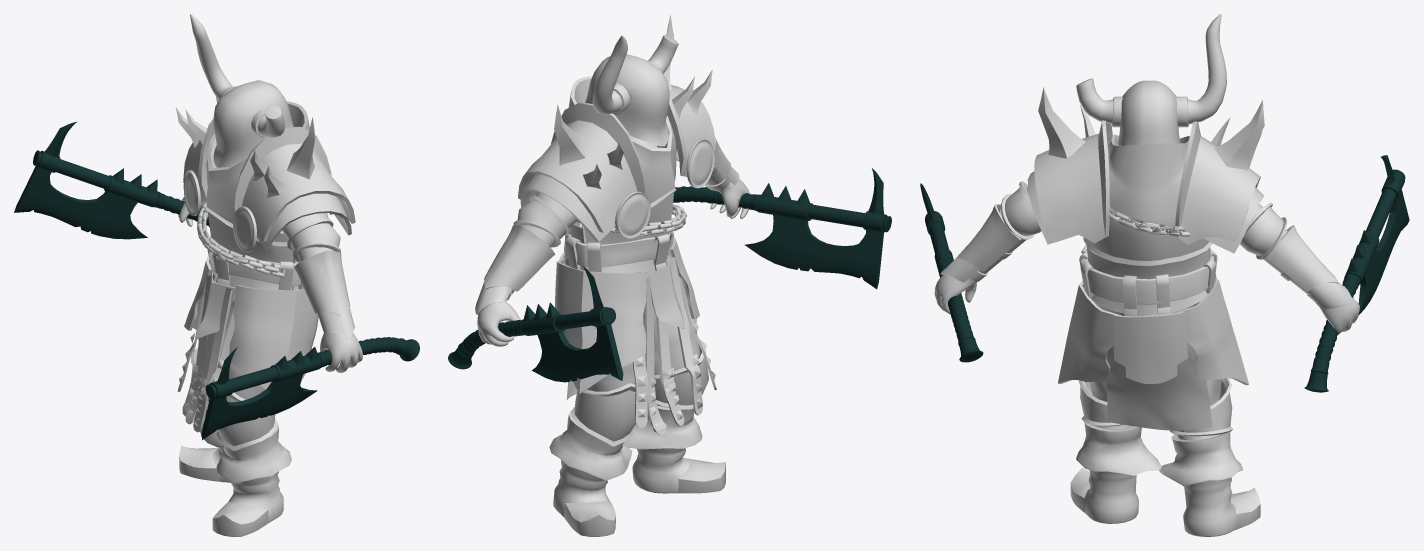
3 renders of one model, left to right at view 1: azimuth 30°, elevation 25°; view 2: azimuth 150°, elevation 25°; view 3: azimuth 270°, elevation 25°, orthographic. The views are drawn at different scales.
Parts seen in each view (by area): view 1: Knight_LP, ChaosAxeLP, ChaosAxeLP001; view 2: Knight_LP, ChaosAxeLP001, ChaosAxeLP; view 3: Knight_LP, ChaosAxeLP, ChaosAxeLP001.
Part boxes in pixels (x1,y1,x2,y2): Knight_LP: [175, 14, 362, 536]; ChaosAxeLP: [14, 122, 209, 239]; ChaosAxeLP001: [201, 337, 419, 439]; Knight_LP: [475, 15, 750, 536]; ChaosAxeLP001: [673, 168, 891, 289]; ChaosAxeLP: [448, 265, 623, 382]; Knight_LP: [934, 14, 1359, 536]; ChaosAxeLP: [1304, 155, 1409, 392]; ChaosAxeLP001: [920, 183, 983, 362].
Bounding box in the file's own units: 663 × 1257 × 1127.
